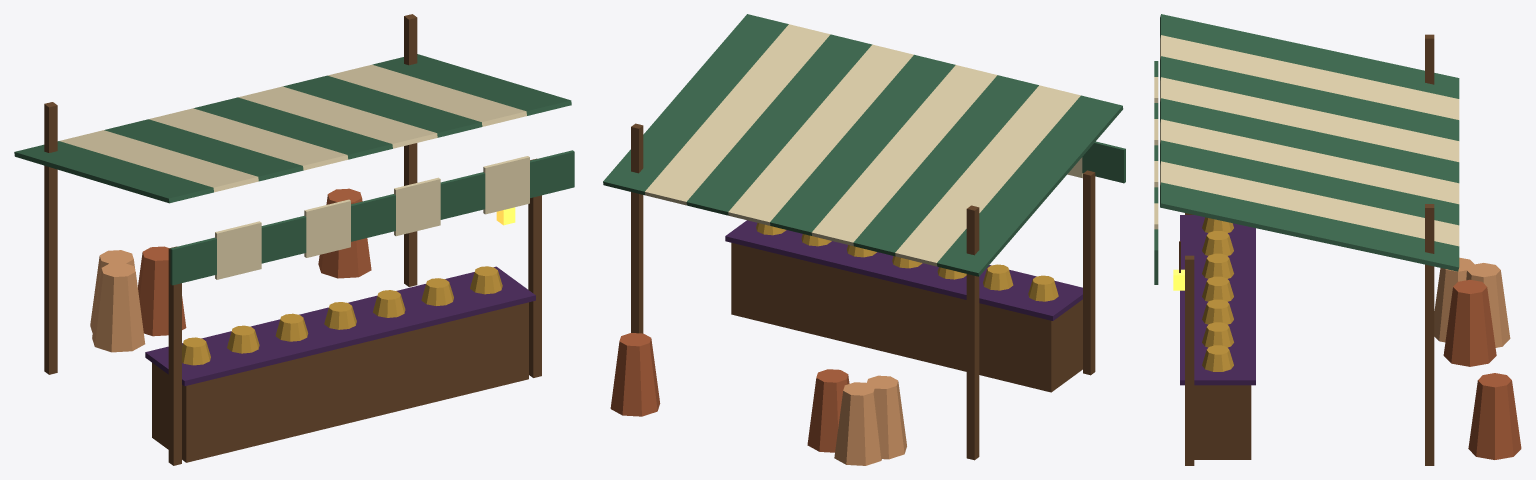
Rendered from stall_brass.glb.
The picture shows the model from 3 angles, left to right: view 1: azimuth 30°, elevation 25°; view 2: azimuth 150°, elevation 25°; view 3: azimuth 270°, elevation 25°; orthographic projection. The views are drawn at different scales.
Parts seen in each view (by area): view 1: Stall; view 2: Stall; view 3: Stall.
Boxes of the visible parts, x1,y1,x2,y2 form: Stall: (14,14,574,465); Stall: (603,14,1125,465); Stall: (1154,14,1521,465).
Size of the model in its own units: 4.72 by 3.15 by 3.87.
